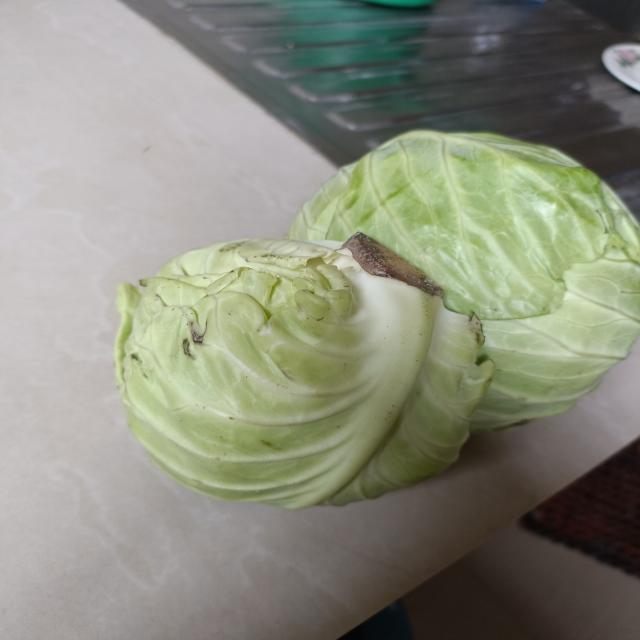cabbage: (96, 231, 492, 514), (290, 124, 622, 428)
